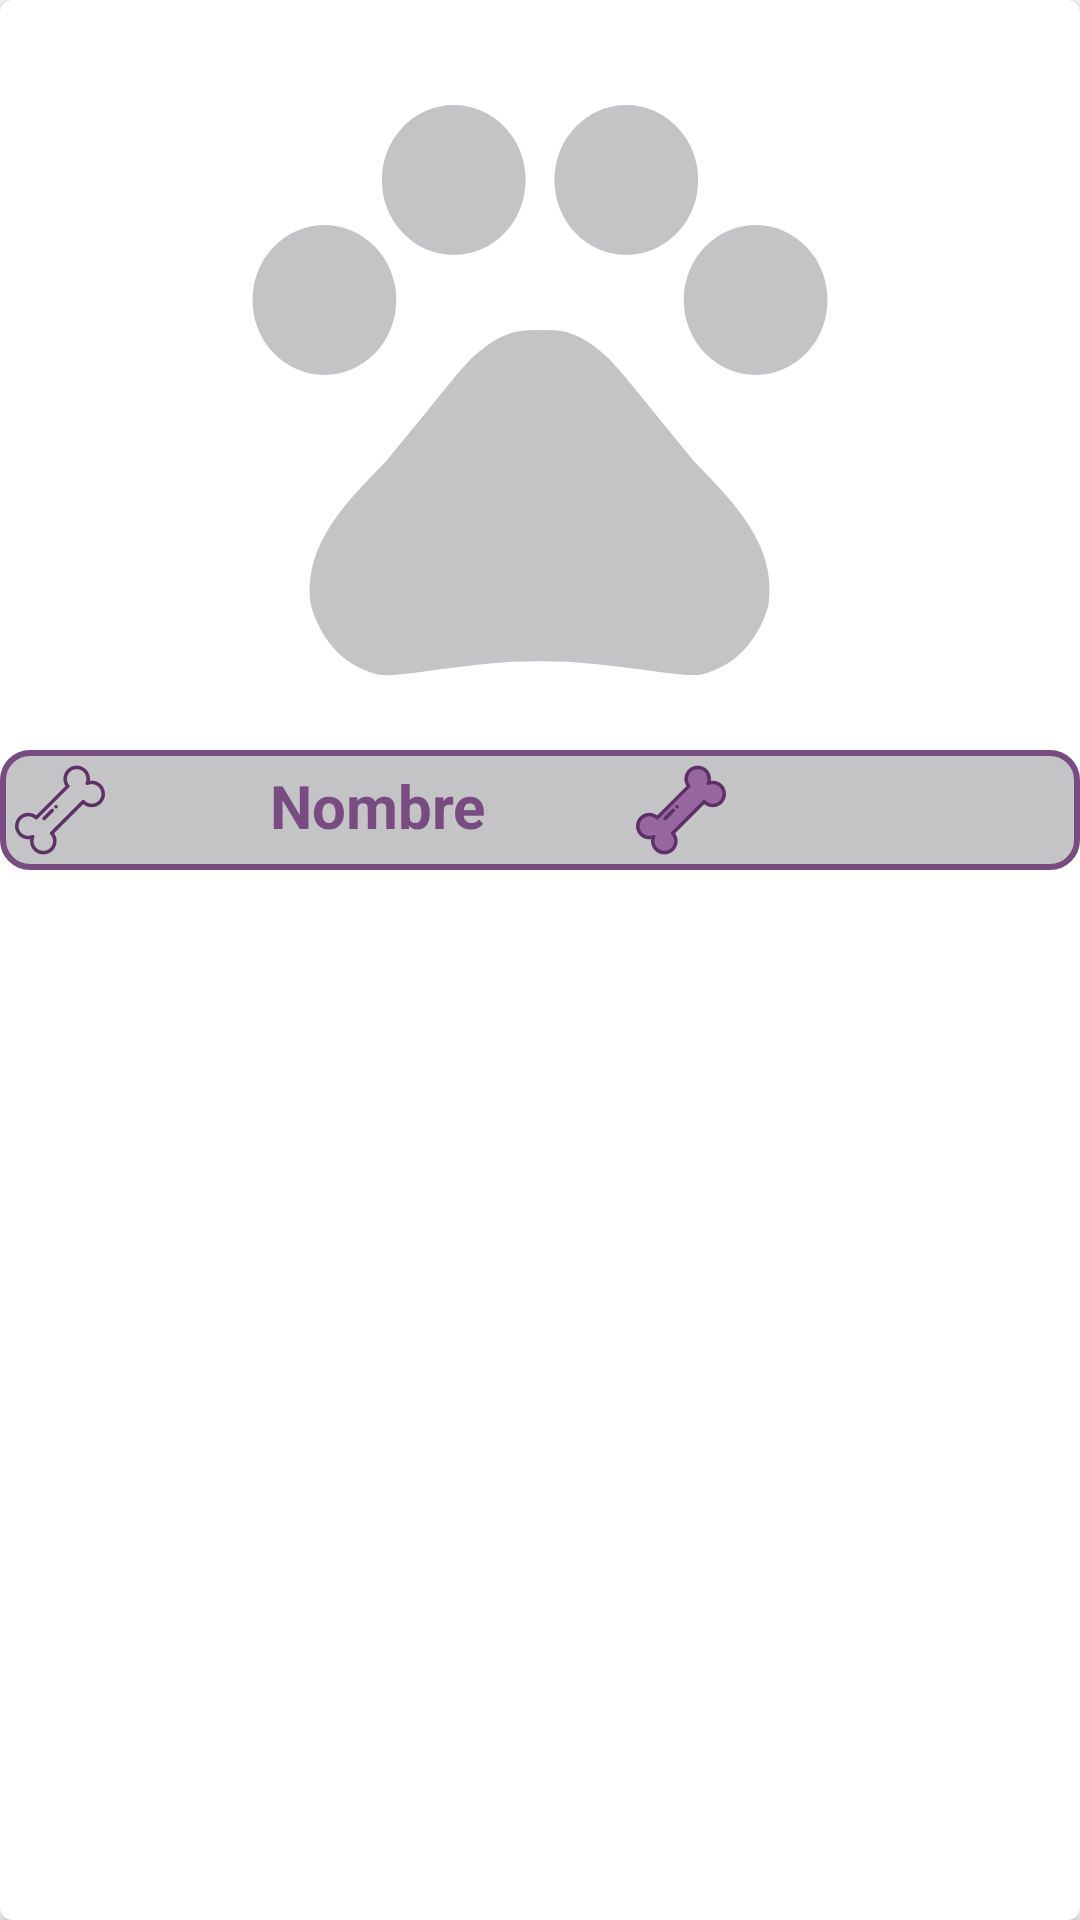

Icon click points for this 1080 x 1920 phone screenshot, format point (x, y):
hueso: point (681, 810)
